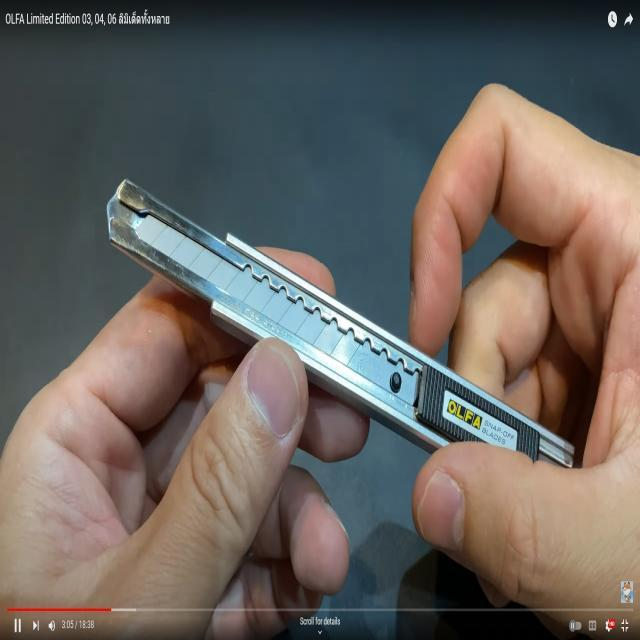cutter: (91, 93, 640, 569)
